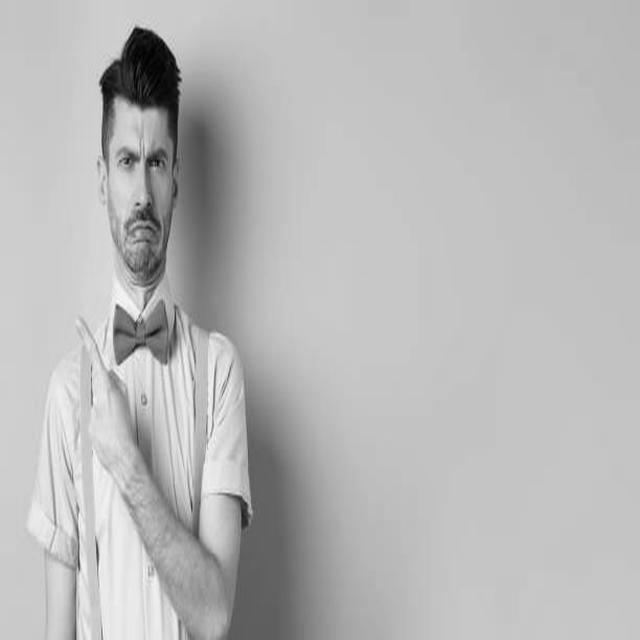Disgust: (109, 110, 174, 276)
